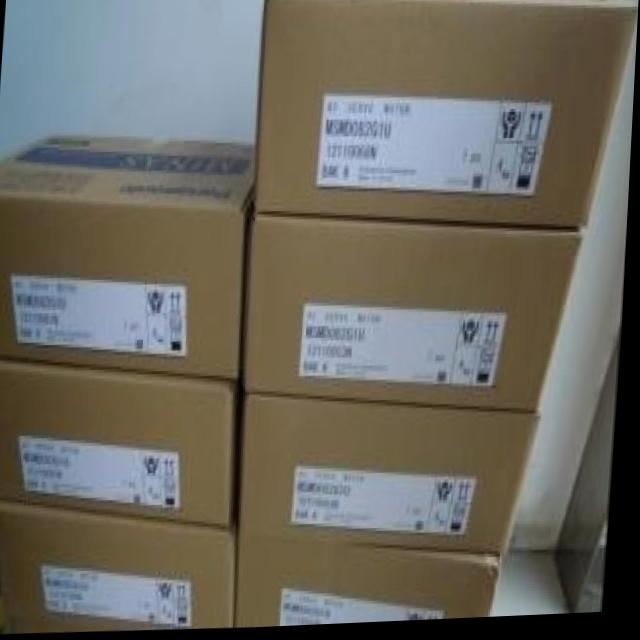box: (255, 0, 639, 234), (243, 212, 587, 420), (0, 133, 258, 378), (244, 391, 545, 563), (0, 354, 248, 530), (0, 499, 244, 631), (239, 531, 506, 627)
